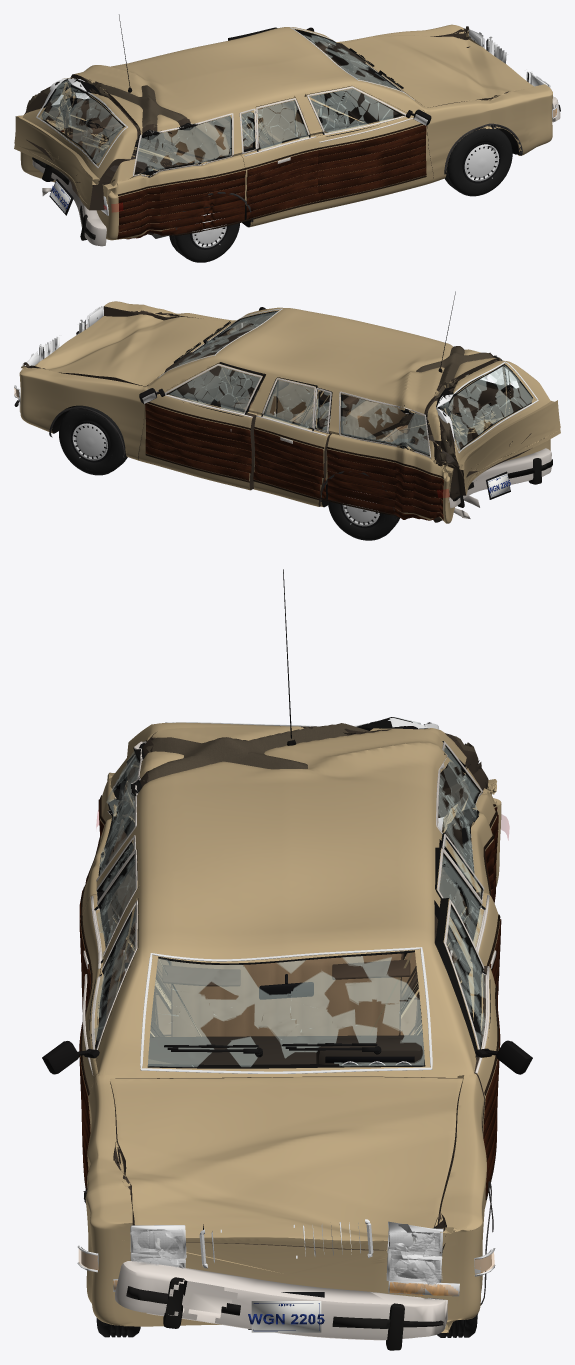
File: wagon82_rear_d1_lod1.glb
3 views of the same model, one above another, from view 1: azimuth 30°, elevation 25°; view 2: azimuth 150°, elevation 25°; view 3: azimuth 270°, elevation 25° (orthographic). The views are drawn at different scales.
Visible parts, largest first — view 1: Body, Hood, Trim, Interior, Trim_FR, Tailgate, Trim_RR, Glass, Wheel_FR_mesh, Glass_Tailgate, Door_FR, Glass_FR (+5 smaller); view 2: Body, Hood, Trim, Tailgate, Interior, Trim_FL, Trim_RL, Glass, Glass_Tailgate, Wheel_FL_mesh, Door_FL, Glass_FL (+5 smaller); view 3: Body, Hood, Interior, Glass, Bumper_F, Ends, Trim, Door_FL, Trim_FL, Lamps_Head, Tailgate, Trim_FR (+9 smaller).
Part boxes in pixels (left/top/right/bottom): Body: left=17, top=24, right=552, bottom=240; Hood: left=340, top=35, right=533, bottom=107; Trim: left=60, top=14, right=522, bottom=239; Interior: left=67, top=43, right=398, bottom=171; Trim_FR: left=307, top=86, right=431, bottom=202; Tailgate: left=14, top=77, right=137, bottom=210; Trim_RR: left=239, top=98, right=320, bottom=219; Glass: left=51, top=27, right=414, bottom=176; Wheel_FR_mesh: left=444, top=128, right=512, bottom=196; Glass_Tailgate: left=36, top=78, right=127, bottom=167; Door_FR: left=306, top=86, right=433, bottom=209; Glass_FR: left=310, top=88, right=404, bottom=136; Body: left=19, top=301, right=551, bottom=523; Hood: left=34, top=314, right=234, bottom=386; Trim: left=49, top=291, right=498, bottom=521; Tailgate: left=427, top=360, right=560, bottom=499; Interior: left=164, top=328, right=500, bottom=462; Trim_FL: left=139, top=364, right=261, bottom=482; Trim_RL: left=253, top=378, right=331, bottom=500; Glass: left=157, top=308, right=516, bottom=457; Glass_Tailgate: left=436, top=361, right=538, bottom=452; Wheel_FL_mesh: left=59, top=405, right=127, bottom=475; Door_FL: left=138, top=362, right=264, bottom=490; Glass_FL: left=166, top=363, right=261, bottom=416; Body: left=80, top=723, right=501, bottom=1332; Hood: left=110, top=1077, right=462, bottom=1250; Interior: left=148, top=868, right=442, bottom=1065; Glass: left=99, top=740, right=482, bottom=1073; Bumper_F: left=115, top=1261, right=447, bottom=1350; Ends: left=77, top=801, right=495, bottom=1332; Trim: left=79, top=569, right=498, bottom=1305; Door_FL: left=434, top=898, right=498, bottom=1208; Trim_FL: left=444, top=899, right=532, bottom=1199; Lamps_Head: left=130, top=1229, right=442, bottom=1286; Tailgate: left=126, top=717, right=478, bottom=874; Trim_FR: left=42, top=900, right=137, bottom=1189.
Bounding box in the file's own units: 4.78 × 2.18 × 2.14.
35 materials, 6 textured.
